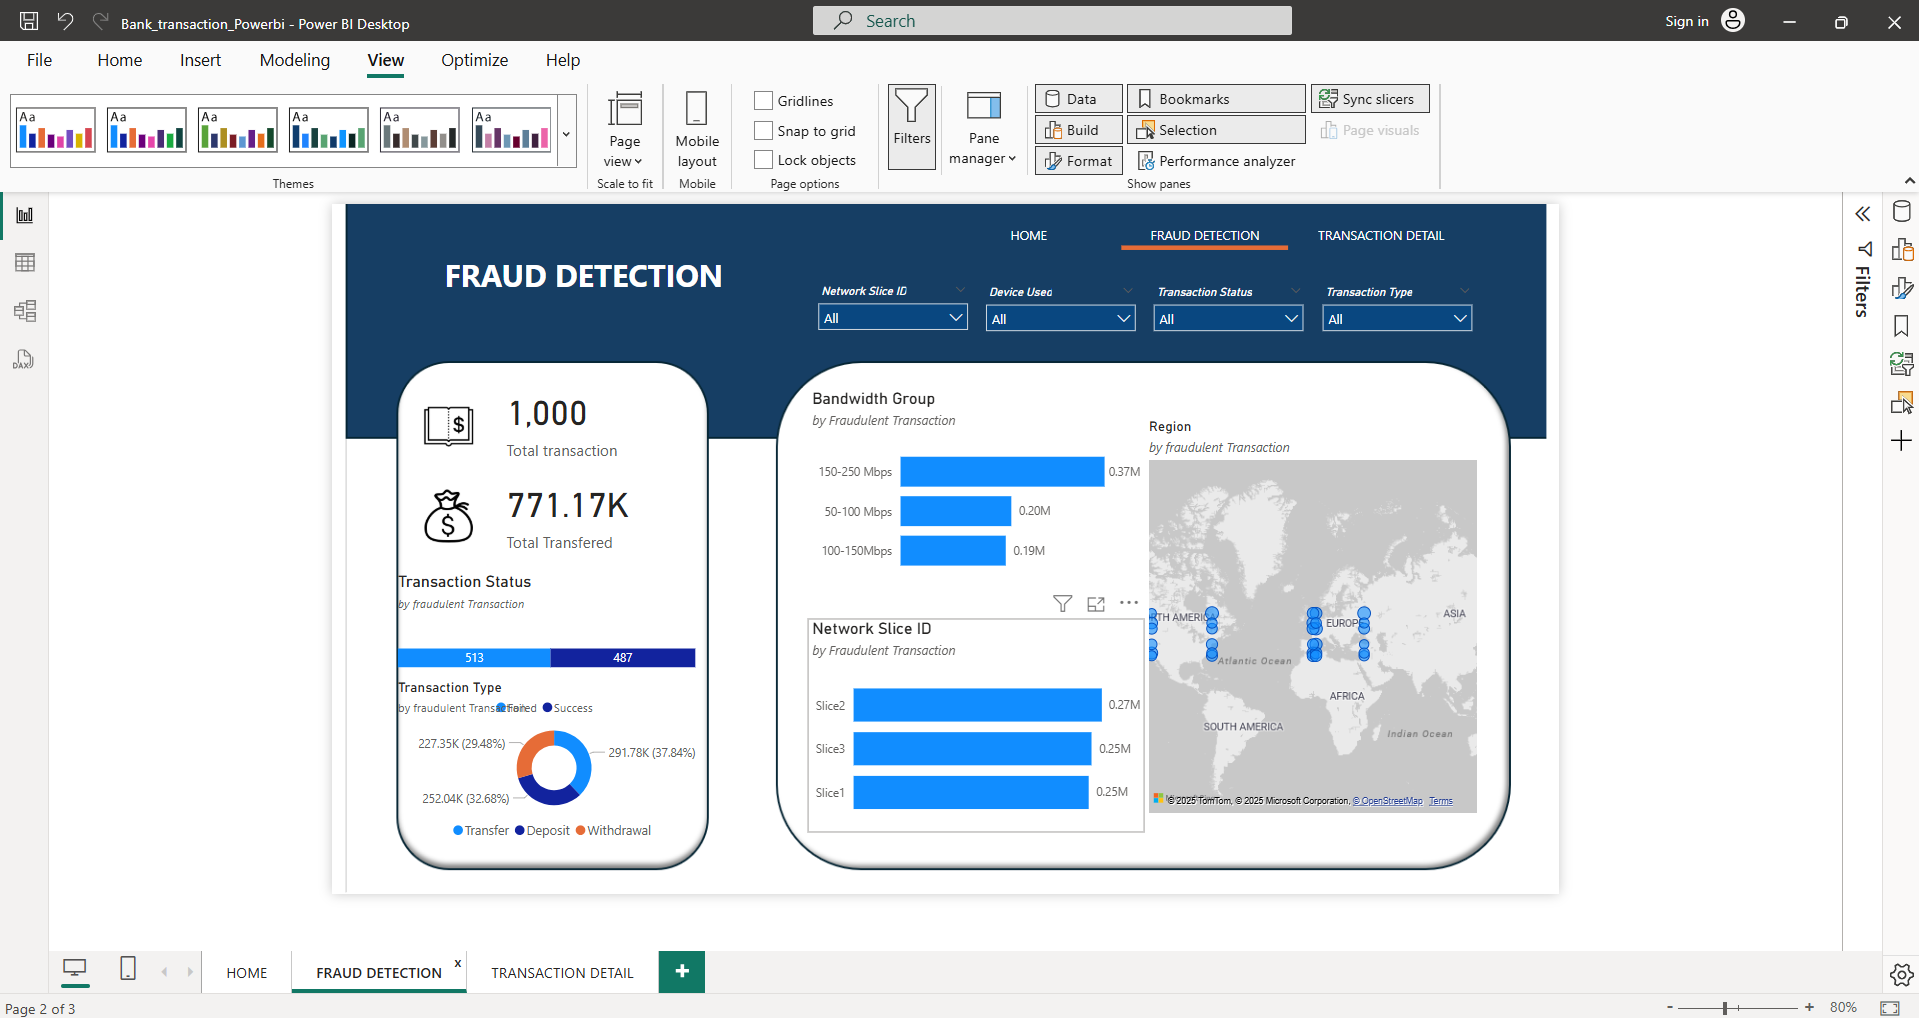

The page's visual inventory and layout, read from the dashboard file:
{"tool":"powerbi","page":{"name":"FRAUD DETECTION ","canvas":[1280,720],"ordinal":1},"visuals":[{"type":"cardVisual","fields":{"Data":["bank transaction_data (1).Total transaction"]},"box":[80,176,288,112],"z":0},{"type":"cardVisual","fields":{"Data":["bank transaction_data (1).Total Transaction Amount"]},"box":[80,272,304,112],"z":1000},{"type":"barChart","title":"Transaction Status","fields":{"Y":["bank transaction_data (1).Total transaction"],"Series":["bank transaction_data (1).Transaction Status"]},"box":[63.6,360.1,320.3,149.9],"z":2000},{"type":"donutChart","title":"Transaction Type","fields":{"Y":["bank transaction_data (1).Total Transfered"],"Category":["bank transaction_data (1).Transaction Type"]},"box":[64,496,336,176],"z":3000},{"type":"map","title":"Region","fields":{"Size":["bank transaction_data (1).Total Transfered"],"Y":["bank transaction_data (1).Latitude Value"],"X":["bank transaction_data (1).Longitude Value"]},"box":[848,224,352,416],"z":4000},{"type":"slicer","fields":{"Values":["bank transaction_data (1).Transaction Type"]},"box":[1024,80,176,64],"z":5000},{"type":"slicer","fields":{"Values":["bank transaction_data (1).Network Slice ID"]},"box":[497.2,79,176,64],"z":6000},{"type":"slicer","fields":{"Values":["bank transaction_data (1).Device Used"]},"box":[672,80,176,64],"z":7000},{"type":"slicer","fields":{"Values":["bank transaction_data (1).Transaction Status"]},"box":[848,80,176,64],"z":8000},{"type":"textbox","box":[112,48,512,64],"z":9000},{"type":"barChart","title":"Bandwidth Group","fields":{"Y":["bank transaction_data (1).Total Transfered"],"Category":["bank transaction_data (1).Bandwidth Group"]},"box":[496,192,352,208],"z":10000},{"type":"barChart","title":"Network Slice ID","fields":{"Y":["bank transaction_data (1).Total Transfered"],"Category":["bank transaction_data (1).Network Slice ID"]},"box":[496,432,352,224],"z":11000},{"type":"pageNavigator","box":[640,16,544,32],"z":12000}]}

Visuals, with their boxes on the page's 1280x720 design canvas (x1, y1, x2, y2). These are canvas units, not pixel positions in the 1919x1018 screenshot, which may show the page scaled, cropped or inside an application window:
cardVisual - bank transaction_data (1).Total transaction: bbox=[80, 176, 368, 288]
cardVisual - bank transaction_data (1).Total Transaction Amount: bbox=[80, 272, 384, 384]
"Transaction Status" barChart: bbox=[64, 360, 384, 510]
"Transaction Type" donutChart: bbox=[64, 496, 400, 672]
"Region" map: bbox=[848, 224, 1200, 640]
slicer - bank transaction_data (1).Transaction Type: bbox=[1024, 80, 1200, 144]
slicer - bank transaction_data (1).Network Slice ID: bbox=[497, 79, 673, 143]
slicer - bank transaction_data (1).Device Used: bbox=[672, 80, 848, 144]
slicer - bank transaction_data (1).Transaction Status: bbox=[848, 80, 1024, 144]
textbox: bbox=[112, 48, 624, 112]
"Bandwidth Group" barChart: bbox=[496, 192, 848, 400]
"Network Slice ID" barChart: bbox=[496, 432, 848, 656]
pageNavigator: bbox=[640, 16, 1184, 48]
